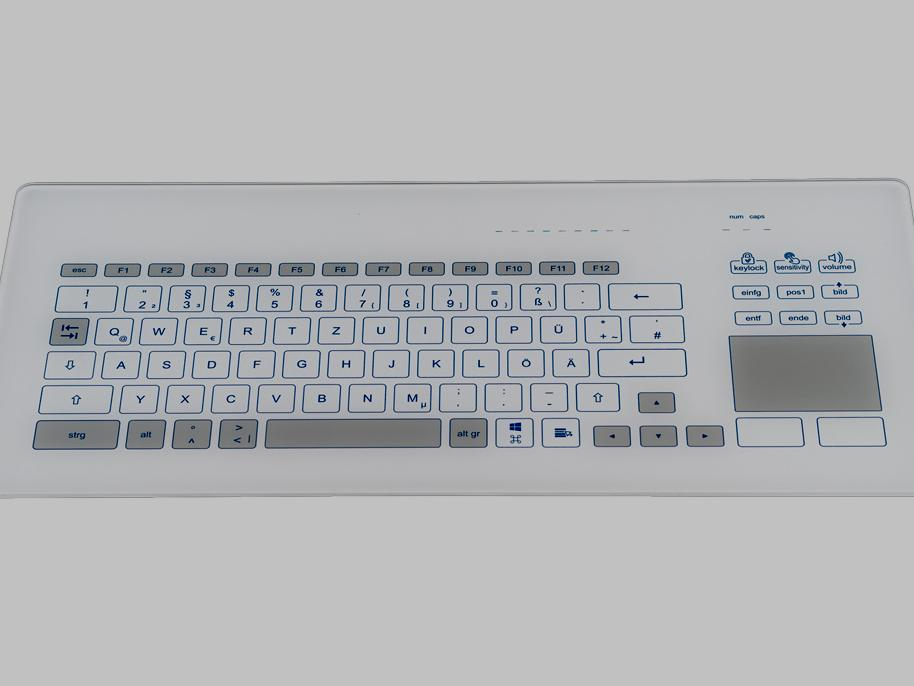0: (473, 281, 511, 309)
1: (54, 283, 117, 310)
2: (122, 283, 161, 310)
3: (165, 282, 205, 311)
4: (210, 282, 248, 310)
5: (254, 282, 293, 310)
6: (298, 282, 336, 310)
7: (341, 282, 380, 310)
8: (385, 282, 424, 310)
9: (429, 281, 468, 310)
a: (99, 348, 139, 377)
accent: (562, 281, 599, 308)
ae: (549, 346, 589, 376)
alt-left: (125, 418, 166, 450)
altgr-right: (448, 417, 490, 449)
b: (300, 381, 340, 411)
c: (209, 382, 249, 412)
comma: (436, 380, 475, 410)
d: (190, 348, 229, 377)
del: (605, 280, 681, 309)
e: (181, 315, 221, 344)
enter: (595, 346, 685, 377)
f: (235, 348, 274, 377)
g: (280, 347, 319, 377)
h: (325, 347, 364, 376)
hash: (627, 313, 684, 342)
i: (404, 314, 442, 342)
j: (370, 346, 408, 376)
k: (414, 346, 454, 376)
keyboard: (1, 180, 914, 501)
l: (460, 346, 498, 376)
less: (216, 416, 257, 448)
m: (390, 380, 431, 411)
minus: (527, 380, 567, 410)
n: (345, 380, 385, 411)
o: (448, 313, 486, 342)
oe: (505, 346, 543, 376)
p: (493, 313, 531, 342)
plus: (582, 313, 620, 341)
point: (482, 380, 521, 410)
q: (92, 315, 133, 344)
r: (226, 314, 265, 343)
s: (144, 348, 184, 377)
shift-left: (36, 382, 112, 413)
shift-lock: (41, 349, 95, 378)
shift-right: (573, 380, 619, 411)
space: (263, 415, 443, 449)
ss: (517, 281, 555, 309)
strg-left: (31, 418, 121, 448)
t: (271, 314, 309, 343)
tab: (46, 314, 88, 344)
u: (359, 314, 398, 343)
ue: (537, 313, 576, 342)
v: (254, 381, 294, 411)
w: (137, 314, 176, 344)
x: (163, 382, 203, 412)
y: (117, 382, 158, 412)
z: (315, 314, 354, 343)
